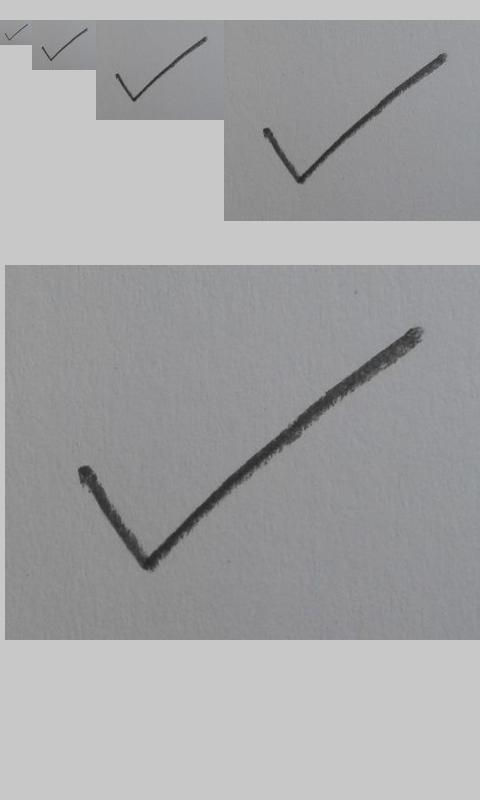check_box: (79, 326, 422, 573), (263, 54, 445, 184), (116, 37, 208, 102), (42, 28, 88, 61), (4, 24, 28, 41)
